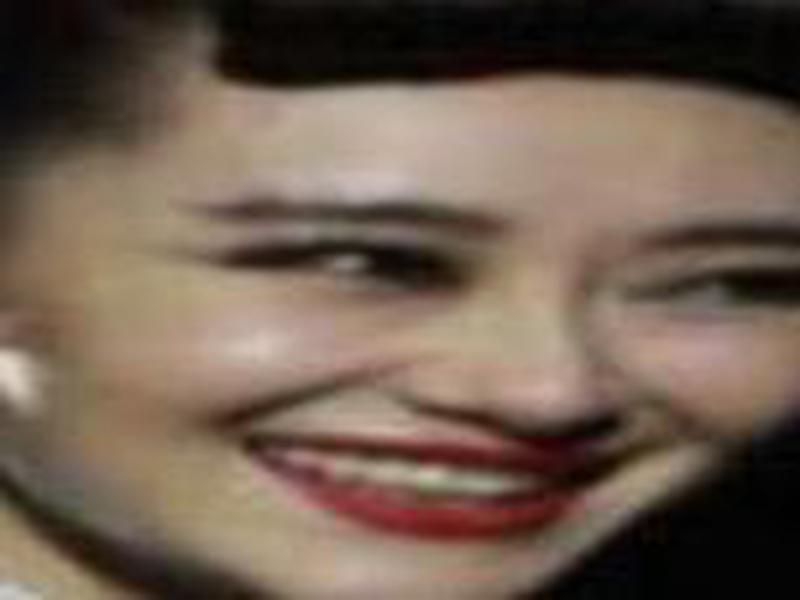without_mask: (34, 59, 791, 570)
